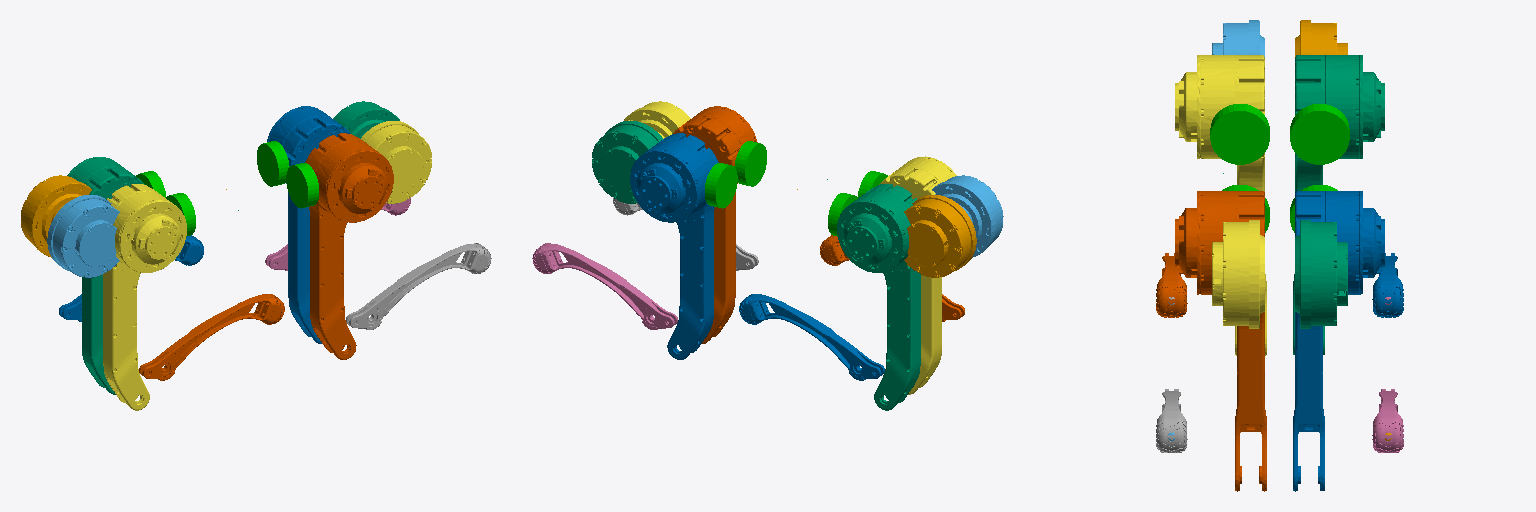
--- Render facts (derived) ---
Views: 3 orthographic renders of the robot side by side, from view 1: azimuth 30°, elevation 25°; view 2: azimuth 150°, elevation 25°; view 3: azimuth 270°, elevation 25°.
Robot: go1 — 46 links, 45 joints (12 revolute, 33 fixed); root link base; default pose: all joints at 0 but 4 set to mid-range because 0 is outside their limits (FR_calf_joint = -1.85, FL_calf_joint = -1.85, RR_calf_joint = -1.85, RL_calf_joint = -1.85).
Links seen in each view (by area): view 1: FR_thigh, RR_thigh, FL_thigh, RR_hip, RL_thigh, FR_hip, RR_calf, FR_calf, RL_hip, FL_hip, FR_hip_rotor, FL_hip_rotor (+3 smaller); view 2: FL_thigh, RL_thigh, FR_thigh, RL_hip, RR_thigh, FL_hip, RL_calf, FL_calf, RR_hip, FR_hip, FL_hip_rotor, FR_hip_rotor (+3 smaller); view 3: FL_thigh, FR_thigh, RR_thigh, RL_thigh, FR_hip, FL_hip, RR_hip_rotor, RL_hip_rotor, FL_calf, FR_calf, RR_calf, RL_calf (+2 smaller).
Link boxes in pixels (bbox=[...]): FR_thigh: bbox=[305, 133, 393, 359]; RR_thigh: bbox=[103, 184, 186, 410]; FL_thigh: bbox=[267, 106, 350, 343]; RR_hip: bbox=[47, 195, 119, 277]; RL_thigh: bbox=[67, 157, 144, 394]; FR_hip: bbox=[361, 121, 431, 203]; RR_calf: bbox=[139, 294, 284, 380]; FR_calf: bbox=[346, 243, 491, 329]; RL_hip: bbox=[21, 175, 91, 257]; FL_hip: bbox=[333, 101, 399, 138]; FR_hip_rotor: bbox=[286, 163, 318, 208]; FL_hip_rotor: bbox=[257, 141, 289, 186]; FL_thigh: bbox=[630, 133, 718, 359]; RL_thigh: bbox=[837, 184, 920, 410]; FR_thigh: bbox=[673, 106, 757, 343]; RL_hip: bbox=[904, 195, 976, 277]; RR_thigh: bbox=[879, 156, 956, 394]; FL_hip: bbox=[592, 121, 662, 203]; RL_calf: bbox=[739, 294, 884, 380]; FL_calf: bbox=[532, 243, 677, 329]; RR_hip: bbox=[932, 175, 1003, 257]; FR_hip: bbox=[624, 101, 690, 138]; FL_hip_rotor: bbox=[705, 163, 737, 208]; FR_hip_rotor: bbox=[734, 141, 766, 186]; FL_thigh: bbox=[1293, 191, 1384, 491]; FR_thigh: bbox=[1175, 191, 1266, 491]; RR_thigh: bbox=[1175, 55, 1266, 355]; RL_thigh: bbox=[1293, 55, 1384, 354]; FR_hip: bbox=[1212, 220, 1264, 328]; FL_hip: bbox=[1295, 220, 1347, 328]; RR_hip_rotor: bbox=[1210, 104, 1269, 164]; RL_hip_rotor: bbox=[1290, 104, 1349, 164]; FL_calf: bbox=[1372, 389, 1403, 452]; FR_calf: bbox=[1156, 389, 1187, 452]; RR_calf: bbox=[1156, 253, 1187, 317]; RL_calf: bbox=[1372, 253, 1403, 317].
Size in the robot's own frame: 0.7428 by 0.2905 by 0.3834 metres.
12 mesh visuals loaded from 7 distinct referenced files (4 Collada DAE); not drawn: 9 (reference not matched to a file when rendering).

URDF robot description (go1):
<?xml version="1.0" ?>
<!-- =================================================================================== -->
<!-- |    This document was autogenerated by xacro from robot.xacro                    | -->
<!-- |    EDITING THIS FILE BY HAND IS NOT RECOMMENDED                                 | -->
<!-- =================================================================================== -->
<robot name="go1">
  <material name="black">
    <color rgba="0.0 0.0 0.0 1.0"/>
  </material>
  <material name="blue">
    <color rgba="0.0 0.0 0.8 1.0"/>
  </material>
  <material name="green">
    <color rgba="0.0 0.8 0.0 1.0"/>
  </material>
  <material name="grey">
    <color rgba="0.2 0.2 0.2 1.0"/>
  </material>
  <material name="silver">
    <color rgba="0.9137254901960784 0.9137254901960784 0.8470588235294118 1.0"/>
  </material>
  <material name="orange">
    <color rgba="1.0 0.4235294117647059 0.0392156862745098 1.0"/>
  </material>
  <material name="brown">
    <color rgba="0.8705882352941177 0.8117647058823529 0.7647058823529411 1.0"/>
  </material>
  <material name="red">
    <color rgba="0.8 0.0 0.0 1.0"/>
  </material>
  <material name="white">
    <color rgba="1.0 1.0 1.0 1.0"/>
  </material>
  <!-- ros_control plugin -->
  <gazebo>
    <plugin filename="libgazebo_ros_control.so" name="gazebo_ros_control">
      <robotNamespace>/qr_gazebo</robotNamespace>
      <robotSimType>gazebo_ros_control/DefaultRobotHWSim</robotSimType>
    </plugin>
  </gazebo>
  <!-- Show the trajectory of trunk center. -->
  <gazebo>
    <plugin filename="libLinkPlot3DPlugin.so" name="3dplot">
      <frequency>10</frequency>
      <plot>
        <link>base</link>
        <pose>0 0 0 0 0 0</pose>
        <material>Gazebo/Yellow</material>
      </plot>
    </plugin>
  </gazebo>
  <!-- Show the trajectory of foot. You can add another trajectory about another foot. -->
  <!-- <gazebo>
        <plugin name="3dplot" filename="libLinkPlot3DPlugin.so">
            <frequency>100</frequency>
            <plot>
                <link>FL_foot</link>
                <pose>0 0 0 0 0 0</pose>
                <material>Gazebo/Green</material>
            </plot>
        </plugin>
    </gazebo> -->
  <gazebo>
    <plugin filename="libgazebo_ros_force.so" name="gazebo_ros_force">
      <bodyName>trunk</bodyName>
      <topicName>/apply_force/trunk</topicName>
    </plugin>
  </gazebo>
  <gazebo reference="imu_link">
    <gravity>true</gravity>
    <sensor name="imu_sensor" type="imu">
      <always_on>true</always_on>
      <update_rate>1000</update_rate>
      <visualize>true</visualize>
      <topic>__default_topic__</topic>
      <plugin filename="libgazebo_ros_imu_sensor.so" name="imu_plugin">
        <topicName>trunk_imu</topicName>
        <bodyName>imu_link</bodyName>
        <updateRateHZ>1000.0</updateRateHZ>
        <gaussianNoise>0.0</gaussianNoise>
        <xyzOffset>0 0 0</xyzOffset>
        <rpyOffset>0 0 0</rpyOffset>
        <frameName>imu_link</frameName>
      </plugin>
      <pose>0 0 0 0 0 0</pose>
    </sensor>
  </gazebo>
  <!-- Depth camera -->
  <!-- <gazebo>
        <plugin name="camera_plugin" filename="libgazebo_ros_openni_kinect.so">
            <baseline>0.025</baseline>
            <always_on>true</always_on>
            <updateRate>0.0</updateRate>
            <cameraName>unitree_camera_left</cameraName>
            <frameName>depthCamera_link_left</frameName>
            <imageTopicName>rgb/imageRaw_left</imageTopicName>
            <depthImageTopicName>depth/imageRaw_left</depthImageTopicName>
            <pointCloudTopicName>depth/points_left</pointCloudTopicName>
            <cameraInfoTopicName>rgb/cameraInfo_left</cameraInfoTopicName>              
            <depthImageCameraInfoTopicName>depth/cameraInfo_left</depthImageCameraInfoTopicName>            
            <pointCloudCutoff>0.1</pointCloudCutoff>                
            <pointCloudCutoffMax>1.5</pointCloudCutoffMax>                
            <distortionK1>0.0</distortionK1>
            <distortionK2>0.0</distortionK2>
            <distortionK3>0.0</distortionK3>
            <distortionT1>0.0</distortionT1>
            <distortionT2>0.0</distortionT2>
            <CxPrime>0.0</CxPrime>
            <Cx>0.0045</Cx>
            <Cy>0.0039</Cy>
            <focalLength>0.004</focalLength>
            <hackBaseline>0.0</hackBaseline>
        </plugin>
    </gazebo> -->
  <!-- <gazebo reference="depthCamera_link_left">
        <sensor name="unitree_camera_left" type="depth_camera">
            <update_rate>16</update_rate>
            <always_on>true</always_on>
            <visualize>true</visualize>
            <camera>
                <horizontal_fov>2.094</horizontal_fov>
                <image>
                    <width>928</width>
                    <height>800</height>
                    <format>R8G8B8</format>
                </image>
                <depth_camera></depth_camera>
                <clip>
                    <near>0.1</near>
                    <far>100</far>
                </clip>
            </camera>
            <plugin name="camera_plugin" filename="libgazebo_ros_openni_kinect.so">
                <baseline>0.025</baseline>
                <always_on>true</always_on>
                <updateRate>0.0</updateRate>
                <cameraName>unitree_camera_left</cameraName>
                <frameName>depthCamera_link_left</frameName>
                <imageTopicName>rgb/imageRaw_left</imageTopicName>
                <depthImageTopicName>depth/imageRaw_left</depthImageTopicName>
                <pointCloudTopicName>depth/points_left</pointCloudTopicName>
                <cameraInfoTopicName>rgb/cameraInfo_left</cameraInfoTopicName>              
                <depthImageCameraInfoTopicName>depth/cameraInfo_left</depthImageCameraInfoTopicName>            
                <pointCloudCutoff>0.1</pointCloudCutoff>                
                <pointCloudCutoffMax>1.5</pointCloudCutoffMax>                
                <distortionK1>0.0</distortionK1>
                <distortionK2>0.0</distortionK2>
                <distortionK3>0.0</distortionK3>
                <distortionT1>0.0</distortionT1>
                <distortionT2>0.0</distortionT2>
                <CxPrime>0.0</CxPrime>
                <Cx>0.0045</Cx>
                <Cy>0.0039</Cy>
                <focalLength>0.004</focalLength>
                <hackBaseline>0.0</hackBaseline>
            </plugin>
        </sensor>
    </gazebo> -->
  <gazebo reference="depthCamera_link_left">
    <sensor name="camera_link_camera" type="depth">
      <update_rate>20</update_rate>
      <camera>
        <horizontal_fov>1.047198</horizontal_fov>
        <image>
          <width>640</width>
          <height>480</height>
          <format>R8G8B8</format>
        </image>
        <clip>
          <near>0.05</near>
          <far>3</far>
        </clip>
      </camera>
      <plugin filename="libgazebo_ros_openni_kinect.so" name="camera_link_controller">
        <baseline>0.2</baseline>
        <alwaysOn>true</alwaysOn>
        <updateRate>1.0</updateRate>
        <cameraName>camera_link_ir</cameraName>
        <imageTopicName>/camera_link/color/image_raw</imageTopicName>
        <cameraInfoTopicName>/camera_link/color/camera_info</cameraInfoTopicName>
        <depthImageTopicName>/camera_link/depth/image_raw</depthImageTopicName>
        <depthImageInfoTopicName>/camera_link/depth/camera_info</depthImageInfoTopicName>
        <pointCloudTopicName>/camera_link/depth/points</pointCloudTopicName>
        <frameName>depthCamera_link_left</frameName>
        <pointCloudCutoff>0.5</pointCloudCutoff>
        <pointCloudCutoffMax>3.0</pointCloudCutoffMax>
        <distortionK1>0.00000001</distortionK1>
        <distortionK2>0.00000001</distortionK2>
        <distortionK3>0.00000001</distortionK3>
        <distortionT1>0.00000001</distortionT1>
        <distortionT2>0.00000001</distortionT2>
        <CxPrime>0</CxPrime>
        <Cx>0</Cx>
        <Cy>0</Cy>
        <focalLength>0</focalLength>
        <hackBaseline>0</hackBaseline>
      </plugin>
    </sensor>
  </gazebo>
  <!-- Foot contacts. -->
  <gazebo reference="FR_calf">
    <sensor name="FR_foot_contact" type="contact">
      <update_rate>100</update_rate>
      <plugin filename="libunitreeFootContactPlugin.so" name="contactPlugin"/>
      <contact>
        <collision>FR_calf_fixed_joint_lump__FR_foot_collision_1</collision>
      </contact>
    </sensor>
  </gazebo>
  <gazebo reference="FL_calf">
    <sensor name="FL_foot_contact" type="contact">
      <update_rate>100</update_rate>
      <plugin filename="libunitreeFootContactPlugin.so" name="contactPlugin"/>
      <contact>
        <collision>FL_calf_fixed_joint_lump__FL_foot_collision_1</collision>
      </contact>
    </sensor>
  </gazebo>
  <gazebo reference="RR_calf">
    <sensor name="RR_foot_contact" type="contact">
      <update_rate>100</update_rate>
      <plugin filename="libunitreeFootContactPlugin.so" name="contactPlugin"/>
      <contact>
        <collision>RR_calf_fixed_joint_lump__RR_foot_collision_1</collision>
      </contact>
    </sensor>
  </gazebo>
  <gazebo reference="RL_calf">
    <sensor name="RL_foot_contact" type="contact">
      <update_rate>100</update_rate>
      <plugin filename="libunitreeFootContactPlugin.so" name="contactPlugin"/>
      <contact>
        <collision>RL_calf_fixed_joint_lump__RL_foot_collision_1</collision>
      </contact>
    </sensor>
  </gazebo>
  <!-- Visualization of Foot contacts. -->
  <gazebo reference="FR_foot">
    <visual>
      <plugin filename="libunitreeDrawForcePlugin.so" name="drawForcePlugin">
        <topicName>FR_foot_contact</topicName>
      </plugin>
    </visual>
  </gazebo>
  <gazebo reference="FL_foot">
    <visual>
      <plugin filename="libunitreeDrawForcePlugin.so" name="drawForcePlugin">
        <topicName>FL_foot_contact</topicName>
      </plugin>
    </visual>
  </gazebo>
  <gazebo reference="RR_foot">
    <visual>
      <plugin filename="libunitreeDrawForcePlugin.so" name="drawForcePlugin">
        <topicName>RR_foot_contact</topicName>
      </plugin>
    </visual>
  </gazebo>
  <gazebo reference="RL_foot">
    <visual>
      <plugin filename="libunitreeDrawForcePlugin.so" name="drawForcePlugin">
        <topicName>RL_foot_contact</topicName>
      </plugin>
    </visual>
  </gazebo>
  <gazebo reference="base">
    <material>Gazebo/Green</material>
    <turnGravityOff>false</turnGravityOff>
  </gazebo>
  <gazebo reference="trunk">
    <mu1>0.2</mu1>
    <mu2>0.2</mu2>
    <kp value="1000000.0"/>
    <kd value="1.0"/>
  </gazebo>
  <gazebo reference="stick_link">
    <mu1>0.2</mu1>
    <mu2>0.2</mu2>
    <material>Gazebo/White</material>
  </gazebo>
  <gazebo reference="imu_link">
    <mu1>0.2</mu1>
    <mu2>0.2</mu2>
    <material>Gazebo/Red</material>
  </gazebo>
  <!-- FL leg -->
  <gazebo reference="FL_hip">
    <mu1>0.2</mu1>
    <mu2>0.2</mu2>
    <material>Gazebo/DarkGrey</material>
  </gazebo>
  <gazebo reference="FL_thigh">
    <mu1>0.2</mu1>
    <mu2>0.2</mu2>
    <self_collide>1</self_collide>
    <material>Gazebo/DarkGrey</material>
    <kp value="1000000.0"/>
    <kd value="1.0"/>
  </gazebo>
  <gazebo reference="FL_calf">
    <mu1>0.2</mu1>
    <mu2>0.2</mu2>
    <self_collide>1</self_collide>
  </gazebo>
  <gazebo reference="FL_foot">
    <mu1>0.6</mu1>
    <mu2>0.6</mu2>
    <self_collide>1</self_collide>
    <material>Gazebo/DarkGrey</material>
    <kp value="1000000.0"/>
    <kd value="1.0"/>
  </gazebo>
  <!-- FR leg -->
  <gazebo reference="FR_hip">
    <mu1>0.2</mu1>
    <mu2>0.2</mu2>
    <material>Gazebo/DarkGrey</material>
  </gazebo>
  <gazebo reference="FR_thigh">
    <mu1>0.2</mu1>
    <mu2>0.2</mu2>
    <self_collide>1</self_collide>
    <material>Gazebo/DarkGrey</material>
    <kp value="1000000.0"/>
    <kd value="1.0"/>
  </gazebo>
  <gazebo reference="FR_calf">
    <mu1>0.2</mu1>
    <mu2>0.2</mu2>
    <self_collide>1</self_collide>
  </gazebo>
  <gazebo reference="FR_foot">
    <mu1>0.6</mu1>
    <mu2>0.6</mu2>
    <self_collide>1</self_collide>
    <material>Gazebo/DarkGrey</material>
    <kp value="1000000.0"/>
    <kd value="1.0"/>
  </gazebo>
  <!-- RL leg -->
  <gazebo reference="RL_hip">
    <mu1>0.2</mu1>
    <mu2>0.2</mu2>
    <material>Gazebo/DarkGrey</material>
  </gazebo>
  <gazebo reference="RL_thigh">
    <mu1>0.2</mu1>
    <mu2>0.2</mu2>
    <self_collide>1</self_collide>
    <material>Gazebo/DarkGrey</material>
    <kp value="1000000.0"/>
    <kd value="1.0"/>
  </gazebo>
  <gazebo reference="RL_calf">
    <mu1>0.2</mu1>
    <mu2>0.2</mu2>
    <self_collide>1</self_collide>
  </gazebo>
  <gazebo reference="RL_foot">
    <mu1>0.6</mu1>
    <mu2>0.6</mu2>
    <self_collide>1</self_collide>
    <material>Gazebo/DarkGrey</material>
    <kp value="1000000.0"/>
    <kd value="1.0"/>
  </gazebo>
  <!-- RR leg -->
  <gazebo reference="RR_hip">
    <mu1>0.2</mu1>
    <mu2>0.2</mu2>
    <material>Gazebo/DarkGrey</material>
  </gazebo>
  <gazebo reference="RR_thigh">
    <mu1>0.2</mu1>
    <mu2>0.2</mu2>
    <self_collide>1</self_collide>
    <material>Gazebo/DarkGrey</material>
    <kp value="1000000.0"/>
    <kd value="1.0"/>
  </gazebo>
  <gazebo reference="RR_calf">
    <mu1>0.2</mu1>
    <mu2>0.2</mu2>
    <self_collide>1</self_collide>
  </gazebo>
  <gazebo reference="RR_foot">
    <mu1>0.6</mu1>
    <mu2>0.6</mu2>
    <self_collide>1</self_collide>
    <material>Gazebo/DarkGrey</material>
    <kp value="1000000.0"/>
    <kd value="1.0"/>
  </gazebo>
  <!-- <xacro:include filename="$(find go1_gazebo)/launch/stairs.urdf.xacro"/> -->
  <!-- <xacro:stairs stairs="15" xpos="0" ypos="0" zpos="0" /> -->
  <!-- Rotor related joint and link is only for demonstrate location. -->
  <!-- Actually, the rotor will rotate and the joint is not fixed. Reduction ratio should be considered. -->
  <!-- Debug mode will hung up the robot, use "true" or "false" to switch it. -->
  <!-- <xacro:if value="$(arg DEBUG)">
        <link name="world"/>
        <joint name="base_static_joint" type="fixed">
            <origin rpy="0 0 0" xyz="0 0 0"/>
            <parent link="world"/>
            <child link="base"/>
        </joint>
    </xacro:if>  -->
  <link name="base">
    <visual>
      <origin rpy="0 0 0" xyz="0 0 0"/>
      <geometry>
        <box size="0.001 0.001 0.001"/>
      </geometry>
    </visual>
  </link>
  <joint name="floating_base" type="fixed">
    <origin rpy="0 0 0" xyz="0 0 0"/>
    <parent link="base"/>
    <child link="trunk"/>
  </joint>
  <link name="trunk">
    <visual>
      <origin rpy="0 0 0" xyz="0 0 0"/>
      <geometry>
        <mesh filename="package://go1_description/meshes/trunk.dae" scale="1 1 1"/>
      </geometry>
      <!-- <material name="orange"/> -->
    </visual>
    <collision>
      <origin rpy="0 0 0" xyz="0 0 0"/>
      <geometry>
        <box size="0.3762 0.0935 0.114"/>
      </geometry>
    </collision>
    <inertial>
      <origin rpy="0 0 0" xyz="0.0223 0.002 -0.0005"/>
      <mass value="5.204"/>
      <inertia ixx="0.0168128557" ixy="-0.0002296769" ixz="-0.0002945293" iyy="0.063009565" iyz="-4.18731e-05" izz="0.0716547275"/>
    </inertial>
  </link>
  <joint name="imu_joint" type="fixed">
    <parent link="trunk"/>
    <child link="imu_link"/>
    <origin rpy="0 0 0" xyz="-0.01592 -0.06659 -0.00617"/>
  </joint>
  <link name="imu_link">
    <inertial>
      <mass value="0.001"/>
      <origin rpy="0 0 0" xyz="0 0 0"/>
      <inertia ixx="0.0001" ixy="0" ixz="0" iyy="0.0001" iyz="0" izz="0.0001"/>
    </inertial>
    <visual>
      <origin rpy="0 0 0" xyz="0 0 0"/>
      <geometry>
        <box size="0.001 0.001 0.001"/>
      </geometry>
      <!-- <material name="red"/> -->
    </visual>
    <collision>
      <origin rpy="0 0 0" xyz="0 0 0"/>
      <geometry>
        <box size=".001 .001 .001"/>
      </geometry>
    </collision>
  </link>
  <joint name="FR_hip_joint" type="revolute">
    <origin rpy="0 0 0" xyz="0.1881 -0.04675 0"/>
    <parent link="trunk"/>
    <child link="FR_hip"/>
    <axis xyz="1 0 0"/>
    <dynamics damping="0.01" friction="0.2"/>
    <limit effort="23.7" lower="-0.863" upper="0.863" velocity="30.1"/>
  </joint>
  <joint name="FR_hip_rotor_joint" type="fixed">
    <origin rpy="0 0 0" xyz="0.11215 -0.04675 0"/>
    <parent link="trunk"/>
    <child link="FR_hip_rotor"/>
  </joint>
  <link name="FR_hip">
    <visual>
      <origin rpy="3.141592653589793 0 0" xyz="0 0 0"/>
      <geometry>
        <mesh filename="package://go1_description/meshes/hip.dae" scale="1 1 1"/>
      </geometry>
      <!-- <material name="orange"/> -->
    </visual>
    <collision>
      <origin rpy="1.5707963267948966 0 0" xyz="0 -0.08 0"/>
      <geometry>
        <cylinder length="0.04" radius="0.046"/>
      </geometry>
    </collision>
    <inertial>
      <origin rpy="0 0 0" xyz="-0.005657 0.008752 -0.000102"/>
      <mass value="0.591"/>
      <inertia ixx="0.000334008405" ixy="1.0826066e-05" ixz="1.290732e-06" iyy="0.000619101213" iyz="-1.643194e-06" izz="0.00040057614"/>
    </inertial>
  </link>
  <link name="FR_hip_rotor">
    <visual>
      <origin rpy="0 1.5707963267948966 0" xyz="0 0 0"/>
      <geometry>
        <cylinder length="0.02" radius="0.035"/>
      </geometry>
      <material name="green"/>
    </visual>
    <collision>
      <origin rpy="0 1.5707963267948966 0" xyz="0 0 0"/>
      <geometry>
        <cylinder length="0.02" radius="0.035"/>
      </geometry>
    </collision>
    <inertial>
      <origin rpy="0 0 0" xyz="0.0 0.0 0.0"/>
      <mass value="0.089"/>
      <inertia ixx="0.000111842" ixy="0.0" ixz="0.0" iyy="5.9647e-05" iyz="0.0" izz="5.9647e-05"/>
    </inertial>
  </link>
  <joint name="FR_thigh_joint" type="revolute">
    <origin rpy="0 0 0" xyz="0 -0.08 0"/>
    <parent link="FR_hip"/>
    <child link="FR_thigh"/>
    <axis xyz="0 1 0"/>
    <dynamics damping="0.01" friction="0.2"/>
    <limit effort="23.7" lower="-0.686" upper="4.501" velocity="30.1"/>
  </joint>
  <joint name="FR_thigh_rotor_joint" type="fixed">
    <origin rpy="0 0 0" xyz="0.0 0.00015 0"/>
    <parent link="FR_hip"/>
    <child link="FR_thigh_rotor"/>
  </joint>
  <link name="FR_thigh">
    <visual>
      <origin rpy="0 0 0" xyz="0 0 0"/>
      <geometry>
        <mesh filename="package://go1_description/meshes/thigh_mirror.dae" scale="1 1 1"/>
      </geometry>
      <!-- <material name="orange"/> -->
    </visual>
    <collision>
      <origin rpy="0 1.5707963267948966 0" xyz="0 0 -0.1065"/>
      <geometry>
        <box size="0.213 0.0245 0.034"/>
      </geometry>
    </collision>
    <inertial>
      <origin rpy="0 0 0" xyz="-0.003342 0.018054 -0.033451"/>
      <mass value="0.92"/>
      <inertia ixx="0.004431760472" ixy="-5.7496807e-05" ixz="-0.000218457134" iyy="0.004485671726" iyz="-0.000572001265" izz="0.000740309489"/>
    </inertial>
  </link>
  <link name="FR_thigh_rotor">
    <visual>
      <origin rpy="1.5707963267948966 0 0" xyz="0 0 0"/>
      <geometry>
        <cylinder length="0.02" radius="0.035"/>
      </geometry>
      <material name="green"/>
    </visual>
    <collision>
      <origin rpy="1.5707963267948966 0 0" xyz="0 0 0"/>
      <geometry>
        <cylinder length="0.02" radius="0.035"/>
      </geometry>
    </collision>
    <inertial>
      <origin rpy="0 0 0" xyz="0.0 0.0 0.0"/>
      <mass value="0.089"/>
      <inertia ixx="5.9647e-05" ixy="0.0" ixz="0.0" iyy="0.000111842" iyz="0.0" izz="5.9647e-05"/>
    </inertial>
  </link>
  <joint name="FR_calf_joint" type="revolute">
    <origin rpy="0 0 0" xyz="0 0 -0.213"/>
    <parent link="FR_thigh"/>
    <child link="FR_calf"/>
    <axis xyz="0 1 0"/>
    <dynamics damping="0.01" friction="0.2"/>
    <limit effort="35.55" lower="-2.818" upper="-0.888" velocity="20.06"/>
  </joint>
  <joint name="FR_calf_rotor_joint" type="fixed">
    <origin rpy="0 0 0" xyz="0.0 0.03235 0"/>
    <parent link="FR_thigh"/>
    <child link="FR_calf_rotor"/>
  </joint>
  <link name="FR_calf">
    <visual>
      <origin rpy="0 0 0" xyz="0 0 0"/>
      <geometry>
        <mesh filename="package://go1_description/meshes/calf.dae" scale="1 1 1"/>
      </geometry>
      <!-- <material name="orange"/> -->
    </visual>
    <collision>
      <origin rpy="0 1.5707963267948966 0" xyz="0 0 -0.1065"/>
      <geometry>
        <box size="0.213 0.016 0.016"/>
      </geometry>
    </collision>
    <inertial>
      <origin rpy="0 0 0" xyz="0.006197 0.001408 -0.116695"/>
      <mass value="0.135862"/>
      <inertia ixx="0.001088793059" ixy="-2.55679e-07" ixz="7.117814e-06" iyy="0.001100428748" iyz="2.077264e-06" izz="2.4787446e-05"/>
    </inertial>
  </link>
  <link name="FR_calf_rotor">
    <visual>
      <origin rpy="1.5707963267948966 0 0" xyz="0 0 0"/>
      <geometry>
        <cylinder length="0.02" radius="0.035"/>
      </geometry>
      <material name="green"/>
    </visual>
    <collision>
      <origin rpy="1.5707963267948966 0 0" xyz="0 0 0"/>
      <geometry>
        <cylinder length="0.02" radius="0.035"/>
      </geometry>
    </collision>
    <inertial>
      <origin rpy="0 0 0" xyz="0.0 0.0 0.0"/>
      <mass value="0.089"/>
      <inertia ixx="5.9647e-05" ixy="0.0" ixz="0.0" iyy="0.000111842" iyz="0.0" izz="5.9647e-05"/>
    </inertial>
  </link>
  <joint name="FR_foot_fixed" type="fixed">
    <origin rpy="0 0 0" xyz="0 0 -0.213"/>
    <parent link="FR_calf"/>
    <child link="FR_foot"/>
  </joint>
  <link name="FR_foot">
    <visual>
      <origin rpy="0 0 0" xyz="0 0 0"/>
      <geometry>
        <sphere radius="0.01"/>
      </geometry>
      <!-- <material name="orange"/> -->
    </visual>
    <collision>
      <origin rpy="0 0 0" xyz="0 0 0"/>
      <geometry>
        <sphere radius="0.02"/>
      </geometry>
    </collision>
    <inertial>
      <mass value="0.06"/>
      <inertia ixx="9.600000000000001e-06" ixy="0.0" ixz="0.0" iyy="9.600000000000001e-06" iyz="0.0" izz="9.600000000000001e-06"/>
    </inertial>
  </link>
  <transmission name="FR_hip_tran">
    <type>transmission_interface/SimpleTransmission</type>
    <joint name="FR_hip_joint">
      <hardwareInterface>hardware_interface/EffortJointInterface</hardwareInterface>
    </joint>
    <actuator name="FR_hip_motor">
      <hardwareInterface>hardware_interface/EffortJointInterface</hardwareInterface>
      <mechanicalReduction>1</mechanicalReduction>
    </actuator>
  </transmission>
  <transmission name="FR_thigh_tran">
    <type>transmission_interface/SimpleTransmission</type>
    <joint name="FR_thigh_joint">
      <hardwareInterface>hardware_interface/EffortJointInterface</hardwareInterface>
    </joint>
    <actuator name="FR_thigh_motor">
      <hardwareInterface>hardware_interface/EffortJointInterface</hardwareInterface>
      <mechanicalReduction>1</mechanicalReduction>
    </actuator>
  </transmission>
  <transmission name="FR_calf_tran">
    <type>transmission_interface/SimpleTransmission</type>
    <joint name="FR_calf_joint">
      <hardwareInterface>hardware_interface/EffortJointInterface</hardwareInterface>
    </joint>
    <actuator name="FR_calf_motor">
      <hardwareInterface>hardware_interface/EffortJointInterface</hardwareInterface>
      <mechanicalReduction>1</mechanicalReduction>
    </actuator>
  </transmission>
  <joint name="FL_hip_joint" type="revolute">
    <origin rpy="0 0 0" xyz="0.1881 0.04675 0"/>
    <parent link="trunk"/>
    <child link="FL_hip"/>
    <axis xyz="1 0 0"/>
    <dynamics damping="0.01" friction="0.2"/>
    <limit effort="23.7" lower="-0.863" upper="0.863" velocity="30.1"/>
  </joint>
  <joint name="FL_hip_rotor_joint" type="fixed">
    <origin rpy="0 0 0" xyz="0.11215 0.04675 0"/>
    <parent link="trunk"/>
    <child link="FL_hip_rotor"/>
  </joint>
  <link name="FL_hip">
    <visual>
      <origin rpy="0 0 0" xyz="0 0 0"/>
      <geometry>
        <mesh filename="package://go1_description/meshes/hip.dae" scale="1 1 1"/>
      </geometry>
      <!-- <material name="orange"/> -->
    </visual>
    <collision>
      <origin rpy="1.5707963267948966 0 0" xyz="0 0.08 0"/>
      <geometry>
        <cylinder length="0.04" radius="0.046"/>
      </geometry>
    </collision>
    <inertial>
      <origin rpy="0 0 0" xyz="-0.005657 -0.008752 -0.000102"/>
      <mass value="0.591"/>
      <inertia ixx="0.000334008405" ixy="-1.0826066e-05" ixz="1.290732e-06" iyy="0.000619101213" iyz="1.643194e-06" izz="0.00040057614"/>
    </inertial>
  </link>
  <link name="FL_hip_rotor">
    <visual>
      <origin rpy="0 1.5707963267948966 0" xyz="0 0 0"/>
      <geometry>
        <cylinder length="0.02" radius="0.035"/>
      </geometry>
      <material name="green"/>
    </visual>
    <collision>
      <origin rpy="0 1.5707963267948966 0" xyz="0 0 0"/>
      <geometry>
        <cylinder length="0.02" radius="0.035"/>
      </geometry>
    </collision>
    <inertial>
      <origin rpy="0 0 0" xyz="0.0 0.0 0.0"/>
      <mass value="0.089"/>
      <inertia ixx="0.000111842" ixy="0.0" ixz="0.0" iyy="5.9647e-05" iyz="0.0" izz="5.9647e-05"/>
    </inertial>
  </link>
  <joint name="FL_thigh_joint" type="revolute">
    <origin rpy="0 0 0" xyz="0 0.08 0"/>
    <parent link="FL_hip"/>
    <child link="FL_thigh"/>
    <axis xyz="0 1 0"/>
    <dynamics damping="0.01" friction="0.2"/>
    <limit effort="23.7" lower="-0.686" upper="4.501" velocity="30.1"/>
  </joint>
  <joint name="FL_thigh_rotor_joint" type="fixed">
    <origin rpy="0 0 0" xyz="0.0 -0.00015 0"/>
    <parent link="FL_hip"/>
    <child link="FL_thigh_rotor"/>
  </joint>
  <link name="FL_thigh">
    <visual>
      <origin rpy="0 0 0" xyz="0 0 0"/>
      <geometry>
        <mesh filename="package://go1_description/meshes/thigh.dae" scale="1 1 1"/>
      </geometry>
      <!-- <material name="orange"/> -->
    </visual>
    <collision>
      <origin rpy="0 1.5707963267948966 0" xyz="0 0 -0.1065"/>
      <geometry>
        <box size="0.213 0.0245 0.034"/>
      </geometry>
    </collision>
    <inertial>
      <origin rpy="0 0 0" xyz="-0.003342 -0.018054 -0.033451"/>
      <mass value="0.92"/>
      <inertia ixx="0.004431760472" ixy="5.7496807e-05" ixz="-0.000218457134" iyy="0.004485671726" iyz="0.000572001265" izz="0.000740309489"/>
    </inertial>
  </link>
  <link name="FL_thigh_rotor">
    <visual>
      <origin rpy="1.5707963267948966 0 0" xyz="0 0 0"/>
      <geometry>
        <cylinder length="0.02" radius="0.035"/>
      </geometry>
      <material name="green"/>
    </visual>
    <collision>
      <origin rpy="1.5707963267948966 0 0" xyz="0 0 0"/>
      <geometry>
        <cylinder length="0.02" radius="0.035"/>
      </geometry>
    </collision>
    <inertial>
      <origin rpy="0 0 0" xyz="0.0 0.0 0.0"/>
      <mass value="0.089"/>
      <inertia ixx="5.9647e-05" ixy="0.0" ixz="0.0" iyy="0.000111842" iyz="0.0" izz="5.9647e-05"/>
    </inertial>
  </link>
  <joint name="FL_calf_joint" type="revolute">
    <origin rpy="0 0 0" xyz="0 0 -0.213"/>
    <parent link="FL_thigh"/>
    <child link="FL_calf"/>
    <axis xyz="0 1 0"/>
    <dynamics damping="0.01" friction="0.2"/>
    <limit effort="35.55" lower="-2.818" upper="-0.888" velocity="20.06"/>
  </joint>
  <joint name="FL_calf_rotor_joint" type="fixed">
    <origin rpy="0 0 0" xyz="0.0 -0.03235 0"/>
    <parent link="FL_thigh"/>
    <child link="FL_calf_rotor"/>
  </joint>
  <link name="FL_calf">
    <visual>
      <origin rpy="0 0 0" xyz="0 0 0"/>
      <geometry>
        <mesh filename="package://go1_description/meshes/calf.dae" scale="1 1 1"/>
      </geometry>
      <!-- <material name="orange"/> -->
    </visual>
    <collision>
      <origin rpy="0 1.5707963267948966 0" xyz="0 0 -0.1065"/>
      <geometry>
        <box size="0.213 0.016 0.016"/>
      </geometry>
    </collision>
    <inertial>
      <origin rpy="0 0 0" xyz="0.006197 0.001408 -0.116695"/>
      <mass value="0.135862"/>
      <inertia ixx="0.001088793059" ixy="-2.55679e-07" ixz="7.117814e-06" iyy="0.001100428748" iyz="2.077264e-06" izz="2.4787446e-05"/>
    </inertial>
  </link>
  <link name="FL_calf_rotor">
    <visual>
      <origin rpy="1.5707963267948966 0 0" xyz="0 0 0"/>
      <geometry>
        <cylinder length="0.02" radius="0.035"/>
      </geometry>
      <material name="green"/>
    </visual>
    <collision>
      <origin rpy="1.5707963267948966 0 0" xyz="0 0 0"/>
      <geometry>
        <cylinder length="0.02" radius="0.035"/>
      </geometry>
    </collision>
    <inertial>
      <origin rpy="0 0 0" xyz="0.0 0.0 0.0"/>
      <mass value="0.089"/>
      <inertia ixx="5.9647e-05" ixy="0.0" ixz="0.0" iyy="0.000111842" iyz="0.0" izz="5.9647e-05"/>
    </inertial>
  </link>
  <joint name="FL_foot_fixed" type="fixed">
    <origin rpy="0 0 0" xyz="0 0 -0.213"/>
    <parent link="FL_calf"/>
    <child link="FL_foot"/>
  </joint>
  <link name="FL_foot">
    <visual>
      <origin rpy="0 0 0" xyz="0 0 0"/>
      <geometry>
        <sphere radius="0.01"/>
      </geometry>
      <!-- <material name="orange"/> -->
    </visual>
    <collision>
      <origin rpy="0 0 0" xyz="0 0 0"/>
      <geometry>
        <sphere radius="0.02"/>
      </geometry>
    </collision>
    <inertial>
      <mass value="0.06"/>
      <inertia ixx="9.600000000000001e-06" ixy="0.0" ixz="0.0" iyy="9.600000000000001e-06" iyz="0.0" izz="9.600000000000001e-06"/>
    </inertial>
  </link>
  <transmission name="FL_hip_tran">
    <type>transmission_interface/SimpleTransmission</type>
    <joint name="FL_hip_joint">
      <hardwareInterface>hardware_interface/EffortJointInterface</hardwareInterface>
    </joint>
    <actuator name="FL_hip_motor">
      <hardwareInterface>hardware_interface/EffortJointInterface</hardwareInterface>
      <mechanicalReduction>1</mechanicalReduction>
    </actuator>
  </transmission>
  <transmission name="FL_thigh_tran">
    <type>transmission_interface/SimpleTransmission</type>
    <joint name="FL_thigh_joint">
      <hardwareInterface>hardware_interface/EffortJointInterface</hardwareInterface>
    </joint>
    <actuator name="FL_thigh_motor">
      <hardwareInterface>hardware_interface/EffortJointInterface</hardwareInterface>
      <mechanicalReduction>1</mechanicalReduction>
    </actuator>
  </transmission>
  <transmission name="FL_calf_tran">
    <type>transmission_interface/SimpleTransmission</type>
    <joint name="FL_calf_joint">
      <hardwareInterface>hardware_interface/EffortJointInterface</hardwareInterface>
    </joint>
    <actuator name="FL_calf_motor">
      <hardwareInterface>hardware_interface/EffortJointInterface</hardwareInterface>
      <mechanicalReduction>1</mechanicalReduction>
    </actuator>
  </transmission>
  <joint name="RR_hip_joint" type="revolute">
    <origin rpy="0 0 0" xyz="-0.1881 -0.04675 0"/>
    <parent link="trunk"/>
    <child link="RR_hip"/>
    <axis xyz="1 0 0"/>
    <dynamics damping="0.01" friction="0.2"/>
    <limit effort="23.7" lower="-0.863" upper="0.863" velocity="30.1"/>
  </joint>
  <joint name="RR_hip_rotor_joint" type="fixed">
    <origin rpy="0 0 0" xyz="-0.11215 -0.04675 0"/>
    <parent link="trunk"/>
    <child link="RR_hip_rotor"/>
  </joint>
  <link name="RR_hip">
    <visual>
      <origin rpy="3.141592653589793 3.141592653589793 0" xyz="0 0 0"/>
      <geometry>
        <mesh filename="package://go1_description/meshes/hip.dae" scale="1 1 1"/>
      </geometry>
      <!-- <material name="orange"/> -->
    </visual>
    <collision>
      <origin rpy="1.5707963267948966 0 0" xyz="0 -0.08 0"/>
      <geometry>
        <cylinder length="0.04" radius="0.046"/>
      </geometry>
    </collision>
    <inertial>
      <origin rpy="0 0 0" xyz="0.005657 0.008752 -0.000102"/>
      <mass value="0.591"/>
      <inertia ixx="0.000334008405" ixy="-1.0826066e-05" ixz="-1.290732e-06" iyy="0.000619101213" iyz="-1.643194e-06" izz="0.00040057614"/>
    </inertial>
  </link>
  <link name="RR_hip_rotor">
    <visual>
      <origin rpy="0 1.5707963267948966 0" xyz="0 0 0"/>
      <geometry>
        <cylinder length="0.02" radius="0.035"/>
      </geometry>
      <material name="green"/>
    </visual>
    <collision>
      <origin rpy="0 1.5707963267948966 0" xyz="0 0 0"/>
      <geometry>
        <cylinder length="0.02" radius="0.035"/>
      </geometry>
    </collision>
    <inertial>
      <origin rpy="0 0 0" xyz="0.0 0.0 0.0"/>
      <mass value="0.089"/>
      <inertia ixx="0.000111842" ixy="0.0" ixz="0.0" iyy="5.9647e-05" iyz="0.0" izz="5.9647e-05"/>
    </inertial>
  </link>
  <joint name="RR_thigh_joint" type="revolute">
    <origin rpy="0 0 0" xyz="0 -0.08 0"/>
    <parent link="RR_hip"/>
    <child link="RR_thigh"/>
    <axis xyz="0 1 0"/>
    <dynamics damping="0.01" friction="0.2"/>
    <limit effort="23.7" lower="-0.686" upper="4.501" velocity="30.1"/>
  </joint>
  <joint name="RR_thigh_rotor_joint" type="fixed">
    <origin rpy="0 0 0" xyz="0.0 0.00015 0"/>
    <parent link="RR_hip"/>
    <child link="RR_thigh_rotor"/>
  </joint>
  <link name="RR_thigh">
    <visual>
      <origin rpy="0 0 0" xyz="0 0 0"/>
      <geometry>
        <mesh filename="package://go1_description/meshes/thigh_mirror.dae" scale="1 1 1"/>
      </geometry>
      <!-- <material name="orange"/> -->
    </visual>
    <collision>
      <origin rpy="0 1.5707963267948966 0" xyz="0 0 -0.1065"/>
      <geometry>
        <box size="0.213 0.0245 0.034"/>
      </geometry>
    </collision>
    <inertial>
      <origin rpy="0 0 0" xyz="-0.003342 0.018054 -0.033451"/>
      <mass value="0.92"/>
      <inertia ixx="0.004431760472" ixy="-5.7496807e-05" ixz="-0.000218457134" iyy="0.004485671726" iyz="-0.000572001265" izz="0.000740309489"/>
    </inertial>
  </link>
  <link name="RR_thigh_rotor">
    <visual>
      <origin rpy="1.5707963267948966 0 0" xyz="0 0 0"/>
      <geometry>
        <cylinder length="0.02" radius="0.035"/>
      </geometry>
      <material name="green"/>
    </visual>
    <collision>
      <origin rpy="1.5707963267948966 0 0" xyz="0 0 0"/>
      <geometry>
        <cylinder length="0.02" radius="0.035"/>
      </geometry>
    </collision>
    <inertial>
      <origin rpy="0 0 0" xyz="0.0 0.0 0.0"/>
      <mass value="0.089"/>
      <inertia ixx="5.9647e-05" ixy="0.0" ixz="0.0" iyy="0.000111842" iyz="0.0" izz="5.9647e-05"/>
    </inertial>
  </link>
  <joint name="RR_calf_joint" type="revolute">
    <origin rpy="0 0 0" xyz="0 0 -0.213"/>
    <parent link="RR_thigh"/>
    <child link="RR_calf"/>
    <axis xyz="0 1 0"/>
    <dynamics damping="0.01" friction="0.2"/>
    <limit effort="35.55" lower="-2.818" upper="-0.888" velocity="20.06"/>
  </joint>
  <joint name="RR_calf_rotor_joint" type="fixed">
    <origin rpy="0 0 0" xyz="0.0 0.03235 0"/>
    <parent link="RR_thigh"/>
    <child link="RR_calf_rotor"/>
  </joint>
  <link name="RR_calf">
    <visual>
      <origin rpy="0 0 0" xyz="0 0 0"/>
      <geometry>
        <mesh filename="package://go1_description/meshes/calf.dae" scale="1 1 1"/>
      </geometry>
      <!-- <material name="orange"/> -->
    </visual>
    <collision>
      <origin rpy="0 1.5707963267948966 0" xyz="0 0 -0.1065"/>
      <geometry>
        <box size="0.213 0.016 0.016"/>
      </geometry>
    </collision>
    <inertial>
      <origin rpy="0 0 0" xyz="0.006197 0.001408 -0.116695"/>
      <mass value="0.135862"/>
      <inertia ixx="0.001088793059" ixy="-2.55679e-07" ixz="7.117814e-06" iyy="0.001100428748" iyz="2.077264e-06" izz="2.4787446e-05"/>
    </inertial>
  </link>
  <link name="RR_calf_rotor">
    <visual>
      <origin rpy="1.5707963267948966 0 0" xyz="0 0 0"/>
      <geometry>
        <cylinder length="0.02" radius="0.035"/>
      </geometry>
      <material name="green"/>
    </visual>
    <collision>
      <origin rpy="1.5707963267948966 0 0" xyz="0 0 0"/>
      <geometry>
        <cylinder length="0.02" radius="0.035"/>
      </geometry>
    </collision>
    <inertial>
      <origin rpy="0 0 0" xyz="0.0 0.0 0.0"/>
      <mass value="0.089"/>
      <inertia ixx="5.9647e-05" ixy="0.0" ixz="0.0" iyy="0.000111842" iyz="0.0" izz="5.9647e-05"/>
    </inertial>
  </link>
  <joint name="RR_foot_fixed" type="fixed">
    <origin rpy="0 0 0" xyz="0 0 -0.213"/>
    <parent link="RR_calf"/>
    <child link="RR_foot"/>
  </joint>
  <link name="RR_foot">
    <visual>
      <origin rpy="0 0 0" xyz="0 0 0"/>
      <geometry>
        <sphere radius="0.01"/>
      </geometry>
      <!-- <material name="orange"/> -->
    </visual>
    <collision>
      <origin rpy="0 0 0" xyz="0 0 0"/>
      <geometry>
        <sphere radius="0.02"/>
      </geometry>
    </collision>
    <inertial>
      <mass value="0.06"/>
      <inertia ixx="9.600000000000001e-06" ixy="0.0" ixz="0.0" iyy="9.600000000000001e-06" iyz="0.0" izz="9.600000000000001e-06"/>
    </inertial>
  </link>
  <transmission name="RR_hip_tran">
    <type>transmission_interface/SimpleTransmission</type>
    <joint name="RR_hip_joint">
      <hardwareInterface>hardware_interface/EffortJointInterface</hardwareInterface>
    </joint>
    <actuator name="RR_hip_motor">
      <hardwareInterface>hardware_interface/EffortJointInterface</hardwareInterface>
      <mechanicalReduction>1</mechanicalReduction>
    </actuator>
  </transmission>
  <transmission name="RR_thigh_tran">
    <type>transmission_interface/SimpleTransmission</type>
    <joint name="RR_thigh_joint">
      <hardwareInterface>hardware_interface/EffortJointInterface</hardwareInterface>
    </joint>
    <actuator name="RR_thigh_motor">
      <hardwareInterface>hardware_interface/EffortJointInterface</hardwareInterface>
      <mechanicalReduction>1</mechanicalReduction>
    </actuator>
  </transmission>
  <transmission name="RR_calf_tran">
    <type>transmission_interface/SimpleTransmission</type>
    <joint name="RR_calf_joint">
      <hardwareInterface>hardware_interface/EffortJointInterface</hardwareInterface>
    </joint>
    <actuator name="RR_calf_motor">
      <hardwareInterface>hardware_interface/EffortJointInterface</hardwareInterface>
      <mechanicalReduction>1</mechanicalReduction>
    </actuator>
  </transmission>
  <joint name="RL_hip_joint" type="revolute">
    <origin rpy="0 0 0" xyz="-0.1881 0.04675 0"/>
    <parent link="trunk"/>
    <child link="RL_hip"/>
    <axis xyz="1 0 0"/>
    <dynamics damping="0.01" friction="0.2"/>
    <limit effort="23.7" lower="-0.863" upper="0.863" velocity="30.1"/>
  </joint>
  <joint name="RL_hip_rotor_joint" type="fixed">
    <origin rpy="0 0 0" xyz="-0.11215 0.04675 0"/>
    <parent link="trunk"/>
    <child link="RL_hip_rotor"/>
  </joint>
  <link name="RL_hip">
    <visual>
      <origin rpy="0 3.141592653589793 0" xyz="0 0 0"/>
      <geometry>
        <mesh filename="package://go1_description/meshes/hip.dae" scale="1 1 1"/>
      </geometry>
      <!-- <material name="orange"/> -->
    </visual>
    <collision>
      <origin rpy="1.5707963267948966 0 0" xyz="0 0.08 0"/>
      <geometry>
        <cylinder length="0.04" radius="0.046"/>
      </geometry>
    </collision>
    <inertial>
      <origin rpy="0 0 0" xyz="0.005657 -0.008752 -0.000102"/>
      <mass value="0.591"/>
      <inertia ixx="0.000334008405" ixy="1.0826066e-05" ixz="-1.290732e-06" iyy="0.000619101213" iyz="1.643194e-06" izz="0.00040057614"/>
    </inertial>
  </link>
  <link name="RL_hip_rotor">
    <visual>
      <origin rpy="0 1.5707963267948966 0" xyz="0 0 0"/>
      <geometry>
        <cylinder length="0.02" radius="0.035"/>
      </geometry>
      <material name="green"/>
    </visual>
    <collision>
      <origin rpy="0 1.5707963267948966 0" xyz="0 0 0"/>
      <geometry>
        <cylinder length="0.02" radius="0.035"/>
      </geometry>
    </collision>
    <inertial>
      <origin rpy="0 0 0" xyz="0.0 0.0 0.0"/>
      <mass value="0.089"/>
      <inertia ixx="0.000111842" ixy="0.0" ixz="0.0" iyy="5.9647e-05" iyz="0.0" izz="5.9647e-05"/>
    </inertial>
  </link>
  <joint name="RL_thigh_joint" type="revolute">
    <origin rpy="0 0 0" xyz="0 0.08 0"/>
    <parent link="RL_hip"/>
    <child link="RL_thigh"/>
    <axis xyz="0 1 0"/>
    <dynamics damping="0.01" friction="0.2"/>
    <limit effort="23.7" lower="-0.686" upper="4.501" velocity="30.1"/>
  </joint>
  <joint name="RL_thigh_rotor_joint" type="fixed">
    <origin rpy="0 0 0" xyz="0.0 -0.00015 0"/>
    <parent link="RL_hip"/>
    <child link="RL_thigh_rotor"/>
  </joint>
  <link name="RL_thigh">
    <visual>
      <origin rpy="0 0 0" xyz="0 0 0"/>
      <geometry>
        <mesh filename="package://go1_description/meshes/thigh.dae" scale="1 1 1"/>
      </geometry>
      <!-- <material name="orange"/> -->
    </visual>
    <collision>
      <origin rpy="0 1.5707963267948966 0" xyz="0 0 -0.1065"/>
      <geometry>
        <box size="0.213 0.0245 0.034"/>
      </geometry>
    </collision>
    <inertial>
      <origin rpy="0 0 0" xyz="-0.003342 -0.018054 -0.033451"/>
      <mass value="0.92"/>
      <inertia ixx="0.004431760472" ixy="5.7496807e-05" ixz="-0.000218457134" iyy="0.004485671726" iyz="0.000572001265" izz="0.000740309489"/>
    </inertial>
  </link>
  <link name="RL_thigh_rotor">
    <visual>
      <origin rpy="1.5707963267948966 0 0" xyz="0 0 0"/>
      <geometry>
        <cylinder length="0.02" radius="0.035"/>
      </geometry>
      <material name="green"/>
    </visual>
    <collision>
      <origin rpy="1.5707963267948966 0 0" xyz="0 0 0"/>
      <geometry>
        <cylinder length="0.02" radius="0.035"/>
      </geometry>
    </collision>
    <inertial>
      <origin rpy="0 0 0" xyz="0.0 0.0 0.0"/>
      <mass value="0.089"/>
      <inertia ixx="5.9647e-05" ixy="0.0" ixz="0.0" iyy="0.000111842" iyz="0.0" izz="5.9647e-05"/>
    </inertial>
  </link>
  <joint name="RL_calf_joint" type="revolute">
    <origin rpy="0 0 0" xyz="0 0 -0.213"/>
    <parent link="RL_thigh"/>
    <child link="RL_calf"/>
    <axis xyz="0 1 0"/>
    <dynamics damping="0.01" friction="0.2"/>
    <limit effort="35.55" lower="-2.818" upper="-0.888" velocity="20.06"/>
  </joint>
  <joint name="RL_calf_rotor_joint" type="fixed">
    <origin rpy="0 0 0" xyz="0.0 -0.03235 0"/>
    <parent link="RL_thigh"/>
    <child link="RL_calf_rotor"/>
  </joint>
  <link name="RL_calf">
    <visual>
      <origin rpy="0 0 0" xyz="0 0 0"/>
      <geometry>
        <mesh filename="package://go1_description/meshes/calf.dae" scale="1 1 1"/>
      </geometry>
      <!-- <material name="orange"/> -->
    </visual>
    <collision>
      <origin rpy="0 1.5707963267948966 0" xyz="0 0 -0.1065"/>
      <geometry>
        <box size="0.213 0.016 0.016"/>
      </geometry>
    </collision>
    <inertial>
      <origin rpy="0 0 0" xyz="0.006197 0.001408 -0.116695"/>
      <mass value="0.135862"/>
      <inertia ixx="0.001088793059" ixy="-2.55679e-07" ixz="7.117814e-06" iyy="0.001100428748" iyz="2.077264e-06" izz="2.4787446e-05"/>
    </inertial>
  </link>
  <link name="RL_calf_rotor">
    <visual>
      <origin rpy="1.5707963267948966 0 0" xyz="0 0 0"/>
      <geometry>
        <cylinder length="0.02" radius="0.035"/>
      </geometry>
      <material name="green"/>
    </visual>
    <collision>
      <origin rpy="1.5707963267948966 0 0" xyz="0 0 0"/>
      <geometry>
        <cylinder length="0.02" radius="0.035"/>
      </geometry>
    </collision>
    <inertial>
      <origin rpy="0 0 0" xyz="0.0 0.0 0.0"/>
      <mass value="0.089"/>
      <inertia ixx="5.9647e-05" ixy="0.0" ixz="0.0" iyy="0.000111842" iyz="0.0" izz="5.9647e-05"/>
    </inertial>
  </link>
  <joint name="RL_foot_fixed" type="fixed">
    <origin rpy="0 0 0" xyz="0 0 -0.213"/>
    <parent link="RL_calf"/>
    <child link="RL_foot"/>
  </joint>
  <link name="RL_foot">
    <visual>
      <origin rpy="0 0 0" xyz="0 0 0"/>
      <geometry>
        <sphere radius="0.01"/>
      </geometry>
      <!-- <material name="orange"/> -->
    </visual>
    <collision>
      <origin rpy="0 0 0" xyz="0 0 0"/>
      <geometry>
        <sphere radius="0.02"/>
      </geometry>
    </collision>
    <inertial>
      <mass value="0.06"/>
      <inertia ixx="9.600000000000001e-06" ixy="0.0" ixz="0.0" iyy="9.600000000000001e-06" iyz="0.0" izz="9.600000000000001e-06"/>
    </inertial>
  </link>
  <transmission name="RL_hip_tran">
    <type>transmission_interface/SimpleTransmission</type>
    <joint name="RL_hip_joint">
      <hardwareInterface>hardware_interface/EffortJointInterface</hardwareInterface>
    </joint>
    <actuator name="RL_hip_motor">
      <hardwareInterface>hardware_interface/EffortJointInterface</hardwareInterface>
      <mechanicalReduction>1</mechanicalReduction>
    </actuator>
  </transmission>
  <transmission name="RL_thigh_tran">
    <type>transmission_interface/SimpleTransmission</type>
    <joint name="RL_thigh_joint">
      <hardwareInterface>hardware_interface/EffortJointInterface</hardwareInterface>
    </joint>
    <actuator name="RL_thigh_motor">
      <hardwareInterface>hardware_interface/EffortJointInterface</hardwareInterface>
      <mechanicalReduction>1</mechanicalReduction>
    </actuator>
  </transmission>
  <transmission name="RL_calf_tran">
    <type>transmission_interface/SimpleTransmission</type>
    <joint name="RL_calf_joint">
      <hardwareInterface>hardware_interface/EffortJointInterface</hardwareInterface>
    </joint>
    <actuator name="RL_calf_motor">
      <hardwareInterface>hardware_interface/EffortJointInterface</hardwareInterface>
      <mechanicalReduction>1</mechanicalReduction>
    </actuator>
  </transmission>
  <joint name="camera_joint_face" type="fixed">
    <origin rpy="3.141592653589793 0 0" xyz="0.2785 0.0125 0.0167"/>
    <parent link="trunk"/>
    <child link="camera_face"/>
  </joint>
  <link name="camera_face">
    <collision>
      <origin rpy="0 0 0" xyz="0 0 0"/>
      <geometry>
        <box size=".001 .001 .001"/>
      </geometry>
    </collision>
    <visual>
      <origin rpy="0 0 0" xyz="0 0 0"/>
      <geometry>
        <mesh filename="package://go1_description/meshes/depthCamera.dae" scale="1 1 1"/>
      </geometry>
    </visual>
    <inertial>
      <mass value="1e-5"/>
      <origin rpy="0 0 0" xyz="0 0 0"/>
      <inertia ixx="1e-6" ixy="0" ixz="0" iyy="1e-6" iyz="0" izz="1e-6"/>
    </inertial>
  </link>
  <joint name="camera_optical_joint_face" type="fixed">
    <origin rpy="-1.5707963267948966 0 -1.5707963267948966" xyz="0 0 0"/>
    <parent link="camera_face"/>
    <child link="camera_optical_face"/>
  </joint>
  <link name="camera_optical_face">
        </link>
  <gazebo reference="camera_face">
    <!-- <material>Gazebo/Black</material> -->
    <sensor name="camera_face_camera" type="depth">
      <update_rate>16</update_rate>
      <camera>
        <horizontal_fov>2.094</horizontal_fov>
        <image>
          <width>928</width>
          <height>800</height>
          <format>R8G8B8</format>
        </image>
        <clip>
          <near>0.1</near>
          <far>5</far>
        </clip>
      </camera>
      <plugin filename="libgazebo_ros_openni_kinect.so" name="camera_face_controller">
        <baseline>0.025</baseline>
        <alwaysOn>true</alwaysOn>
        <updateRate>0.0</updateRate>
        <cameraName>camera_face_ir</cameraName>
        <imageTopicName>/camera_face/color/image_raw</imageTopicName>
        <cameraInfoTopicName>/camera_face/color/camera_info</cameraInfoTopicName>
        <depthImageTopicName>/camera_face/depth/image_raw</depthImageTopicName>
        <depthImageInfoTopicName>/camera_face/depth/camera_info</depthImageInfoTopicName>
        <!-- <pointCloudTopicName>/camera_${name}/depth/points</pointCloudTopicName> -->
        <pointCloudTopicName>/cam1/point_cloud_face</pointCloudTopicName>
        <frameName>camera_optical_face</frameName>
        <pointCloudCutoff>0.1</pointCloudCutoff>
        <pointCloudCutoffMax>1.5</pointCloudCutoffMax>
        <distortionK1>0.0</distortionK1>
        <distortionK2>0.0</distortionK2>
        <distortionK3>0.0</distortionK3>
        <distortionT1>0.0</distortionT1>
        <distortionT2>0.0</distortionT2>
        <CxPrime>0</CxPrime>
        <Cx>0.0045</Cx>
        <Cy>0.0039</Cy>
        <focalLength>0</focalLength>
        <hackBaseline>0</hackBaseline>
      </plugin>
    </sensor>
  </gazebo>
  <joint name="camera_joint_chin" type="fixed">
    <origin rpy="3.141592653589793 1.5707963267948966 0" xyz="0.2522 0.0125 -0.0436"/>
    <parent link="trunk"/>
    <child link="camera_chin"/>
  </joint>
  <link name="camera_chin">
    <collision>
      <origin rpy="0 0 0" xyz="0 0 0"/>
      <geometry>
        <box size=".001 .001 .001"/>
      </geometry>
    </collision>
    <visual>
      <origin rpy="0 0 0" xyz="0 0 0"/>
      <geometry>
        <mesh filename="package://go1_description/meshes/depthCamera.dae" scale="1 1 1"/>
      </geometry>
    </visual>
    <inertial>
      <mass value="1e-5"/>
      <origin rpy="0 0 0" xyz="0 0 0"/>
      <inertia ixx="1e-6" ixy="0" ixz="0" iyy="1e-6" iyz="0" izz="1e-6"/>
    </inertial>
  </link>
  <joint name="camera_optical_joint_chin" type="fixed">
    <origin rpy="-1.5707963267948966 0 -1.5707963267948966" xyz="0 0 0"/>
    <parent link="camera_chin"/>
    <child link="camera_optical_chin"/>
  </joint>
  <link name="camera_optical_chin">
        </link>
  <gazebo reference="camera_chin">
    <!-- <material>Gazebo/Black</material> -->
    <sensor name="camera_chin_camera" type="depth">
      <update_rate>16</update_rate>
      <camera>
        <horizontal_fov>2.094</horizontal_fov>
        <image>
          <width>928</width>
          <height>800</height>
          <format>R8G8B8</format>
        </image>
        <clip>
          <near>0.1</near>
          <far>5</far>
        </clip>
      </camera>
      <plugin filename="libgazebo_ros_openni_kinect.so" name="camera_chin_controller">
        <baseline>0.025</baseline>
        <alwaysOn>true</alwaysOn>
        <updateRate>0.0</updateRate>
        <cameraName>camera_chin_ir</cameraName>
        <imageTopicName>/camera_chin/color/image_raw</imageTopicName>
        <cameraInfoTopicName>/camera_chin/color/camera_info</cameraInfoTopicName>
        <depthImageTopicName>/camera_chin/depth/image_raw</depthImageTopicName>
        <depthImageInfoTopicName>/camera_chin/depth/camera_info</depthImageInfoTopicName>
        <!-- <pointCloudTopicName>/camera_${name}/depth/points</pointCloudTopicName> -->
        <pointCloudTopicName>/cam2/point_cloud_chin</pointCloudTopicName>
        <frameName>camera_optical_chin</frameName>
        <pointCloudCutoff>0.1</pointCloudCutoff>
        <pointCloudCutoffMax>1.5</pointCloudCutoffMax>
        <distortionK1>0.0</distortionK1>
        <distortionK2>0.0</distortionK2>
        <distortionK3>0.0</distortionK3>
        <distortionT1>0.0</distortionT1>
        <distortionT2>0.0</distortionT2>
        <CxPrime>0</CxPrime>
        <Cx>0.0045</Cx>
        <Cy>0.0039</Cy>
        <focalLength>0</focalLength>
        <hackBaseline>0</hackBaseline>
      </plugin>
    </sensor>
  </gazebo>
  <joint name="camera_joint_left" type="fixed">
    <origin rpy="3.141592653589793 0.2618 1.5707963267948966" xyz="-0.066 0.082 -0.0176"/>
    <parent link="trunk"/>
    <child link="camera_left"/>
  </joint>
  <link name="camera_left">
    <collision>
      <origin rpy="0 0 0" xyz="0 0 0"/>
      <geometry>
        <box size=".001 .001 .001"/>
      </geometry>
    </collision>
    <visual>
      <origin rpy="0 0 0" xyz="0 0 0"/>
      <geometry>
        <mesh filename="package://go1_description/meshes/depthCamera.dae" scale="1 1 1"/>
      </geometry>
    </visual>
    <inertial>
      <mass value="1e-5"/>
      <origin rpy="0 0 0" xyz="0 0 0"/>
      <inertia ixx="1e-6" ixy="0" ixz="0" iyy="1e-6" iyz="0" izz="1e-6"/>
    </inertial>
  </link>
  <joint name="camera_optical_joint_left" type="fixed">
    <origin rpy="-1.5707963267948966 0 -1.5707963267948966" xyz="0 0 0"/>
    <parent link="camera_left"/>
    <child link="camera_optical_left"/>
  </joint>
  <link name="camera_optical_left">
        </link>
  <gazebo reference="camera_left">
    <!-- <material>Gazebo/Black</material> -->
    <sensor name="camera_left_camera" type="depth">
      <update_rate>16</update_rate>
      <camera>
        <horizontal_fov>2.094</horizontal_fov>
        <image>
          <width>928</width>
          <height>800</height>
          <format>R8G8B8</format>
        </image>
        <clip>
          <near>0.1</near>
          <far>5</far>
        </clip>
      </camera>
      <plugin filename="libgazebo_ros_openni_kinect.so" name="camera_left_controller">
        <baseline>0.025</baseline>
        <alwaysOn>true</alwaysOn>
        <updateRate>0.0</updateRate>
        <cameraName>camera_left_ir</cameraName>
        <imageTopicName>/camera_left/color/image_raw</imageTopicName>
        <cameraInfoTopicName>/camera_left/color/camera_info</cameraInfoTopicName>
        <depthImageTopicName>/camera_left/depth/image_raw</depthImageTopicName>
        <depthImageInfoTopicName>/camera_left/depth/camera_info</depthImageInfoTopicName>
        <!-- <pointCloudTopicName>/camera_${name}/depth/points</pointCloudTopicName> -->
        <pointCloudTopicName>/cam3/point_cloud_left</pointCloudTopicName>
        <frameName>camera_optical_left</frameName>
        <pointCloudCutoff>0.1</pointCloudCutoff>
        <pointCloudCutoffMax>1.5</pointCloudCutoffMax>
        <distortionK1>0.0</distortionK1>
        <distortionK2>0.0</distortionK2>
        <distortionK3>0.0</distortionK3>
        <distortionT1>0.0</distortionT1>
        <distortionT2>0.0</distortionT2>
        <CxPrime>0</CxPrime>
        <Cx>0.0045</Cx>
        <Cy>0.0039</Cy>
        <focalLength>0</focalLength>
        <hackBaseline>0</hackBaseline>
      </plugin>
    </sensor>
  </gazebo>
  <joint name="camera_joint_right" type="fixed">
    <origin rpy="3.141592653589793 0.2618 -1.5707963267948966" xyz="-0.041 -0.082 -0.0176"/>
    <parent link="trunk"/>
    <child link="camera_right"/>
  </joint>
  <link name="camera_right">
    <collision>
      <origin rpy="0 0 0" xyz="0 0 0"/>
      <geometry>
        <box size=".001 .001 .001"/>
      </geometry>
    </collision>
    <visual>
      <origin rpy="0 0 0" xyz="0 0 0"/>
      <geometry>
        <mesh filename="package://go1_description/meshes/depthCamera.dae" scale="1 1 1"/>
      </geometry>
    </visual>
    <inertial>
      <mass value="1e-5"/>
      <origin rpy="0 0 0" xyz="0 0 0"/>
      <inertia ixx="1e-6" ixy="0" ixz="0" iyy="1e-6" iyz="0" izz="1e-6"/>
    </inertial>
  </link>
  <joint name="camera_optical_joint_right" type="fixed">
    <origin rpy="-1.5707963267948966 0 -1.5707963267948966" xyz="0 0 0"/>
    <parent link="camera_right"/>
    <child link="camera_optical_right"/>
  </joint>
  <link name="camera_optical_right">
        </link>
  <gazebo reference="camera_right">
    <!-- <material>Gazebo/Black</material> -->
    <sensor name="camera_right_camera" type="depth">
      <update_rate>16</update_rate>
      <camera>
        <horizontal_fov>2.094</horizontal_fov>
        <image>
          <width>928</width>
          <height>800</height>
          <format>R8G8B8</format>
        </image>
        <clip>
          <near>0.1</near>
          <far>5</far>
        </clip>
      </camera>
      <plugin filename="libgazebo_ros_openni_kinect.so" name="camera_right_controller">
        <baseline>0.025</baseline>
        <alwaysOn>true</alwaysOn>
        <updateRate>0.0</updateRate>
        <cameraName>camera_right_ir</cameraName>
        <imageTopicName>/camera_right/color/image_raw</imageTopicName>
        <cameraInfoTopicName>/camera_right/color/camera_info</cameraInfoTopicName>
        <depthImageTopicName>/camera_right/depth/image_raw</depthImageTopicName>
        <depthImageInfoTopicName>/camera_right/depth/camera_info</depthImageInfoTopicName>
        <!-- <pointCloudTopicName>/camera_${name}/depth/points</pointCloudTopicName> -->
        <pointCloudTopicName>/cam4/point_cloud_right</pointCloudTopicName>
        <frameName>camera_optical_right</frameName>
        <pointCloudCutoff>0.1</pointCloudCutoff>
        <pointCloudCutoffMax>1.5</pointCloudCutoffMax>
        <distortionK1>0.0</distortionK1>
        <distortionK2>0.0</distortionK2>
        <distortionK3>0.0</distortionK3>
        <distortionT1>0.0</distortionT1>
        <distortionT2>0.0</distortionT2>
        <CxPrime>0</CxPrime>
        <Cx>0.0045</Cx>
        <Cy>0.0039</Cy>
        <focalLength>0</focalLength>
        <hackBaseline>0</hackBaseline>
      </plugin>
    </sensor>
  </gazebo>
  <joint name="camera_joint_rearDown" type="fixed">
    <origin rpy="3.141592653589793 1.5707963267948966 0" xyz="-0.0825 0.0125 -0.04365"/>
    <parent link="trunk"/>
    <child link="camera_rearDown"/>
  </joint>
  <link name="camera_rearDown">
    <collision>
      <origin rpy="0 0 0" xyz="0 0 0"/>
      <geometry>
        <box size=".001 .001 .001"/>
      </geometry>
    </collision>
    <visual>
      <origin rpy="0 0 0" xyz="0 0 0"/>
      <geometry>
        <mesh filename="package://go1_description/meshes/depthCamera.dae" scale="1 1 1"/>
      </geometry>
    </visual>
    <inertial>
      <mass value="1e-5"/>
      <origin rpy="0 0 0" xyz="0 0 0"/>
      <inertia ixx="1e-6" ixy="0" ixz="0" iyy="1e-6" iyz="0" izz="1e-6"/>
    </inertial>
  </link>
  <joint name="camera_optical_joint_rearDown" type="fixed">
    <origin rpy="-1.5707963267948966 0 -1.5707963267948966" xyz="0 0 0"/>
    <parent link="camera_rearDown"/>
    <child link="camera_optical_rearDown"/>
  </joint>
  <link name="camera_optical_rearDown">
        </link>
  <gazebo reference="camera_rearDown">
    <!-- <material>Gazebo/Black</material> -->
    <sensor name="camera_rearDown_camera" type="depth">
      <update_rate>16</update_rate>
      <camera>
        <horizontal_fov>2.094</horizontal_fov>
        <image>
          <width>928</width>
          <height>800</height>
          <format>R8G8B8</format>
        </image>
        <clip>
          <near>0.1</near>
          <far>5</far>
        </clip>
      </camera>
      <plugin filename="libgazebo_ros_openni_kinect.so" name="camera_rearDown_controller">
        <baseline>0.025</baseline>
        <alwaysOn>true</alwaysOn>
        <updateRate>0.0</updateRate>
        <cameraName>camera_rearDown_ir</cameraName>
        <imageTopicName>/camera_rearDown/color/image_raw</imageTopicName>
        <cameraInfoTopicName>/camera_rearDown/color/camera_info</cameraInfoTopicName>
        <depthImageTopicName>/camera_rearDown/depth/image_raw</depthImageTopicName>
        <depthImageInfoTopicName>/camera_rearDown/depth/camera_info</depthImageInfoTopicName>
        <!-- <pointCloudTopicName>/camera_${name}/depth/points</pointCloudTopicName> -->
        <pointCloudTopicName>/cam5/point_cloud_rearDown</pointCloudTopicName>
        <frameName>camera_optical_rearDown</frameName>
        <pointCloudCutoff>0.1</pointCloudCutoff>
        <pointCloudCutoffMax>1.5</pointCloudCutoffMax>
        <distortionK1>0.0</distortionK1>
        <distortionK2>0.0</distortionK2>
        <distortionK3>0.0</distortionK3>
        <distortionT1>0.0</distortionT1>
        <distortionT2>0.0</distortionT2>
        <CxPrime>0</CxPrime>
        <Cx>0.0045</Cx>
        <Cy>0.0039</Cy>
        <focalLength>0</focalLength>
        <hackBaseline>0</hackBaseline>
      </plugin>
    </sensor>
  </gazebo>
  <joint name="camera_laserscan_joint_left" type="fixed">
    <origin rpy="0 0.2618 0" xyz="0 0 0"/>
    <parent link="camera_left"/>
    <child link="camera_laserscan_link_left"/>
  </joint>
  <link name="camera_laserscan_link_left">
    </link>
  <joint name="camera_laserscan_joint_right" type="fixed">
    <origin rpy="0 0.2618 0" xyz="0 0 0"/>
    <parent link="camera_right"/>
    <child link="camera_laserscan_link_right"/>
  </joint>
  <link name="camera_laserscan_link_right">
    </link>
  <joint name="ultraSound_joint_left" type="fixed">
    <origin rpy="0 0.2618 1.5707963267948966" xyz="-0.0535  0.0826 0.00868"/>
    <parent link="trunk"/>
    <child link="ultraSound_left"/>
  </joint>
  <link name="ultraSound_left">
    <collision>
      <origin rpy="0 0 0" xyz="0 0 0"/>
      <geometry>
        <box size=".001 .001 .001"/>
      </geometry>
    </collision>
    <visual>
      <origin rpy="0 0 0" xyz="0 0 0"/>
      <geometry>
        <mesh filename="package://go1_description/meshes/ultraSound.dae" scale="1 1 1"/>
      </geometry>
      <material name="black"/>
    </visual>
    <inertial>
      <mass value="1e-5"/>
      <origin rpy="0 0 0" xyz="0 0 0"/>
      <inertia ixx="1e-6" ixy="0" ixz="0" iyy="1e-6" iyz="0" izz="1e-6"/>
    </inertial>
  </link>
  <joint name="ultraSound_joint_right" type="fixed">
    <origin rpy="0 0.2618 -1.5707963267948966" xyz="-0.0535 -0.0826 0.00868"/>
    <parent link="trunk"/>
    <child link="ultraSound_right"/>
  </joint>
  <link name="ultraSound_right">
    <collision>
      <origin rpy="0 0 0" xyz="0 0 0"/>
      <geometry>
        <box size=".001 .001 .001"/>
      </geometry>
    </collision>
    <visual>
      <origin rpy="0 0 0" xyz="0 0 0"/>
      <geometry>
        <mesh filename="package://go1_description/meshes/ultraSound.dae" scale="1 1 1"/>
      </geometry>
      <material name="black"/>
    </visual>
    <inertial>
      <mass value="1e-5"/>
      <origin rpy="0 0 0" xyz="0 0 0"/>
      <inertia ixx="1e-6" ixy="0" ixz="0" iyy="1e-6" iyz="0" izz="1e-6"/>
    </inertial>
  </link>
  <joint name="ultraSound_joint_face" type="fixed">
    <origin rpy="0 0 0" xyz="0.2747 0.0 -0.0088"/>
    <parent link="trunk"/>
    <child link="ultraSound_face"/>
  </joint>
  <link name="ultraSound_face">
    <collision>
      <origin rpy="0 0 0" xyz="0 0 0"/>
      <geometry>
        <box size=".001 .001 .001"/>
      </geometry>
    </collision>
    <visual>
      <origin rpy="0 0 0" xyz="0 0 0"/>
      <geometry>
        <mesh filename="package://go1_description/meshes/ultraSound.dae" scale="1 1 1"/>
      </geometry>
      <material name="black"/>
    </visual>
    <inertial>
      <mass value="1e-5"/>
      <origin rpy="0 0 0" xyz="0 0 0"/>
      <inertia ixx="1e-6" ixy="0" ixz="0" iyy="1e-6" iyz="0" izz="1e-6"/>
    </inertial>
  </link>
</robot>
